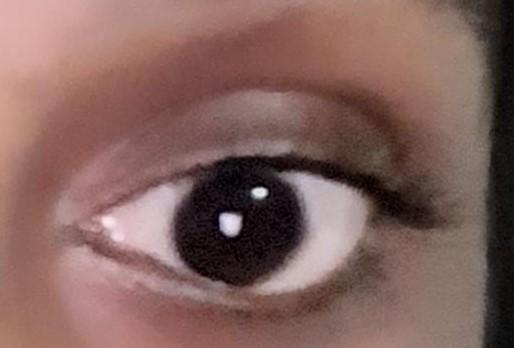open: (48, 114, 465, 341)
